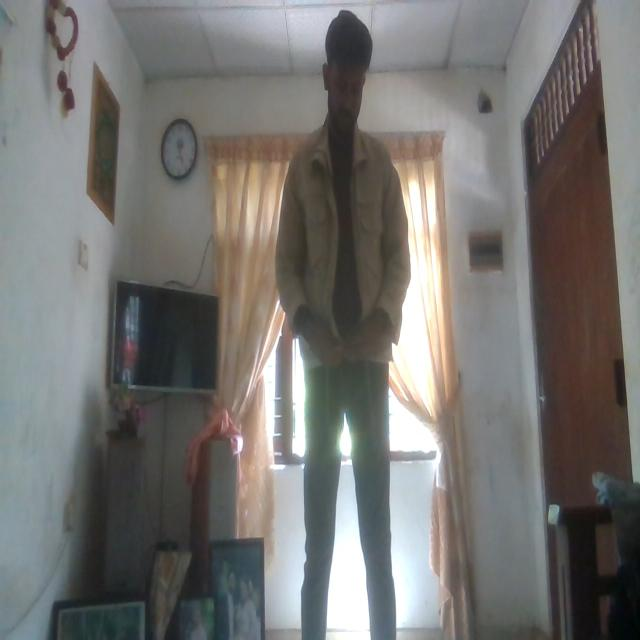Jacket_Wearer: (279, 122, 409, 374)
Person: (280, 16, 408, 596)
